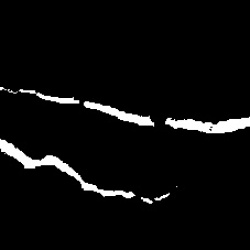crack: (1, 139, 136, 198), (83, 101, 155, 125), (166, 117, 248, 133), (3, 87, 79, 104), (157, 193, 171, 201), (141, 197, 153, 205)
